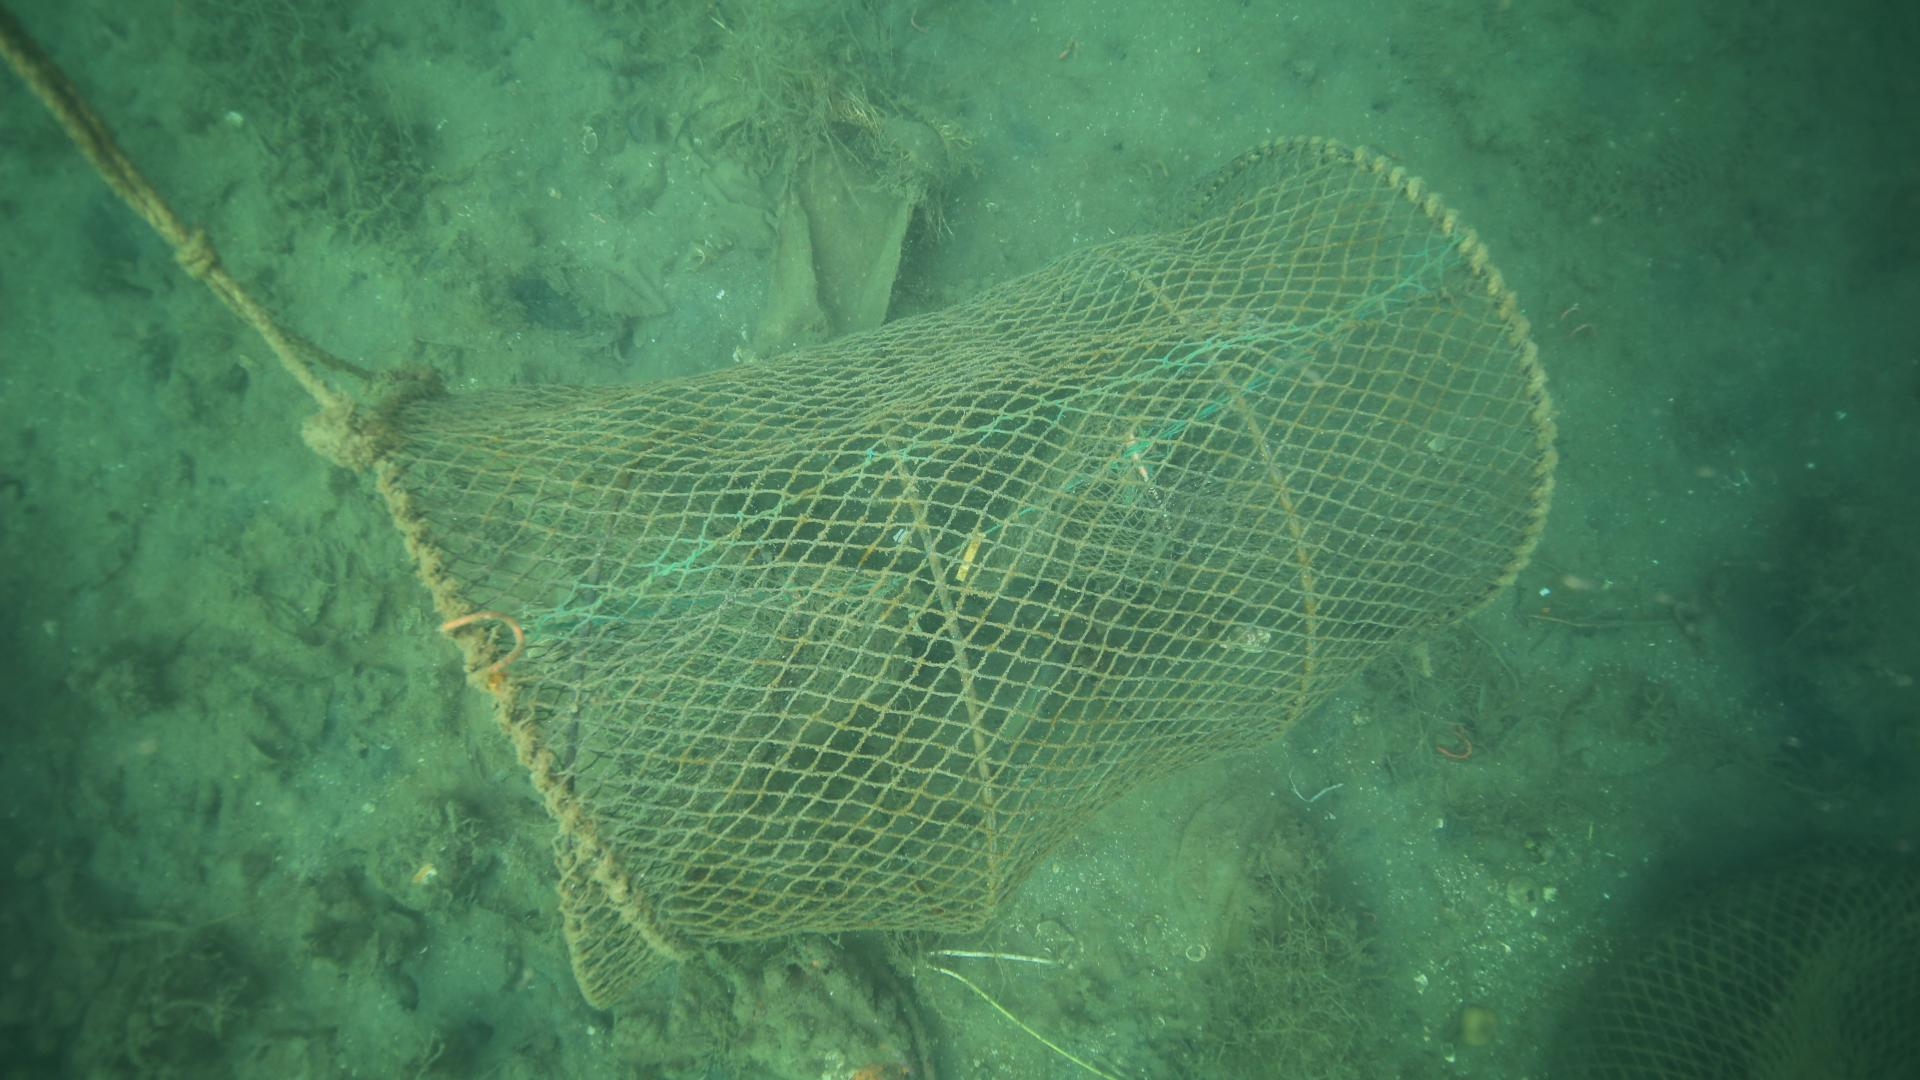bundle of ropes: (0, 0, 353, 411)
spring fish trap: (344, 131, 1557, 1015)
